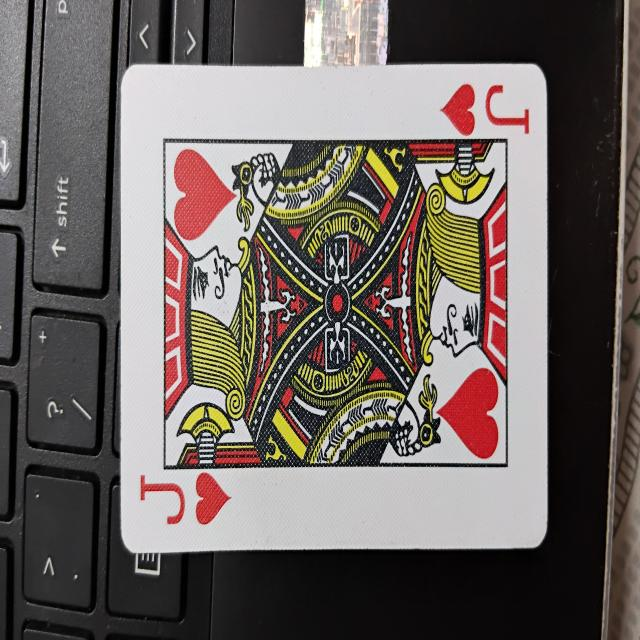JH: (122, 64, 549, 546)
